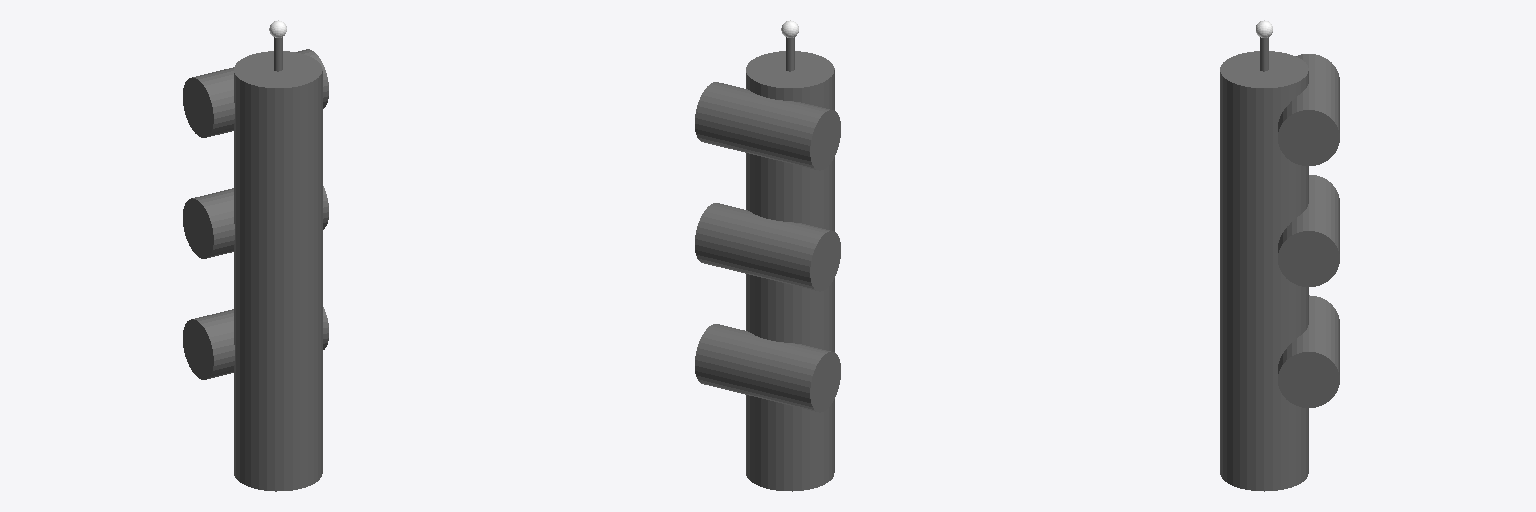
The robot description file, URDF, robot "Mars_Arm":
<?xml version="1.0"?>
<robot name="Mars_Arm">
  <!-- ============== LINKS ================== -->
  <link name="base_plate">
    <visual>
      <geometry>
	<box size="0.1 0.1 0.0"/>
      </geometry>
      <origin xyz="0 0 0"/>
      <material name="Gray">
	<color rgba=".5 .5 .5 1"/>
      </material>
    </visual>
  </link>

  <link name="base">
    <visual>
      <geometry>
	<cylinder length="0.3" radius="0.1"/>
      </geometry>
      <origin xyz="0 0 0.15"/>
      <material name="Gray">
	<color rgba=".5 .5 .5 1"/>
      </material>
    </visual>
  </link>

  <link name="shoulder">
    <visual>
      <geometry>
	<cylinder length="0.3" radius="0.07"/>
      </geometry>
      <origin rpy="0 1.57075 0" xyz="0 0 0"/>
      <material name="Gray">
	<color rgba=".5 .5 .5 1"/>
      </material>
    </visual>
  </link>

  <link name="main_arm">
    <visual>
      <geometry>
	<cylinder length="0.3" radius="0.1"/>
      </geometry>
      <origin xyz="0 0 0.15"/>
      <material name="Gray">
	<color rgba=".5 .5 .5 1"/>
      </material>
    </visual>
  </link>

  <link name="elbow">
    <visual>
      <geometry>
	<cylinder length="0.3" radius="0.07"/>
      </geometry>
      <origin rpy="0 1.57075 0" xyz="0 0 0"/>
      <material name="Gray">
	<color rgba=".5 .5 .5 1"/>
      </material>
    </visual>
  </link>

  <link name="forearm">
    <visual>
      <geometry>
	<cylinder length="0.3" radius="0.1"/>
      </geometry>
      <origin xyz="0 0 0.15"/>
      <material name="Gray">
	<color rgba=".5 .5 .5 1"/>
      </material>
    </visual>
  </link>


  <link name="wrist">
    <visual>
      <geometry>
	<cylinder length="0.3" radius="0.07"/>
      </geometry>
      <origin rpy="0 1.57075 0" xyz="0 0 0"/>
      <material name="Gray">
	<color rgba=".5 .5 .5 1"/>
      </material>
    </visual>
  </link>

  <link name="hand">
    <visual>
      <geometry>
	<cylinder length="0.1" radius="0.1"/>
      </geometry>
      <origin xyz="0 0 0.05"/>
      <material name="Gray">
	<color rgba=".5 .5 .5 1"/>
      </material>
    </visual>
  </link>

  <link name="probe_body">
    <visual>
      <geometry>
	<cylinder length="0.1" radius="0.01"/>
      </geometry>
      <origin xyz="0 0 0.05"/>
      <material name="Gray">
	<color rgba=".5 .5 .5 1"/>
      </material>
    </visual>
  </link>

  <link name="probe_tip">
    <visual>
      <geometry>
	<sphere radius="0.02"/>
      </geometry>
      <material name="White">
	<color rgba="1 1 1 1"/>
      </material>
    </visual>
  </link>




<!-- ============== JOINTS ================== -->
  <joint name="base_plate_to_base" type="revolute">
    <axis xyz="0 0 1"/>
    <limit effort="1000.0" lower="-3.2" upper="3.2" velocity="0.5"/>
    <parent link="base_plate"/>
    <child link="base"/>n
    <origin xyz="0 0 0"/>
  </joint>
  

  <joint name="base_to_shoulder" type="revolute">
    <axis xyz="1 0 0"/>
    <limit effort="1000.0" lower="-1.6" upper="0.6" velocity="0.5"/>
    <parent link="base"/>
    <child link="shoulder"/>
    <origin xyz="0 .1 .3"/>
  </joint>

  <joint name="shoulder_to_main_arm" type="revolute">
    <axis xyz="0 0 1"/>
    <limit effort="1000.0" lower="-3.2" upper="3.2" velocity="0.5"/>
    <parent link="shoulder"/>
    <child link="main_arm"/>
    <origin xyz="0 -.1 0"/>
  </joint>

  <joint name="main_arm_to_elbow" type="revolute">
    <axis xyz="1 0 0"/>
    <limit effort="1000.0" lower="-1.6" upper="0.6" velocity="0.5"/>
    <parent link="main_arm"/>
    <child link="elbow"/>
    <origin xyz="0 .1 .3"/>
  </joint>

  <joint name="elbow_to_forearm" type="revolute">
    <axis xyz="0 0 1"/>
    <limit effort="1000.0" lower="-3.2" upper="3.2" velocity="0.5"/>
    <parent link="elbow"/>
    <child link="forearm"/>
    <origin xyz="0 -.1 0"/>
  </joint>

  <joint name="forearm_to_wrist" type="revolute">
    <axis xyz="1 0 0"/>
    <limit effort="1000.0" lower="-1.6" upper="0.6" velocity="0.5"/>
    <parent link="forearm"/>
    <child link="wrist"/>
    <origin xyz="0 .1 .3"/>
  </joint>

  <joint name="wrist_to_hand" type="revolute">
    <axis xyz="0 0 1"/>
    <limit effort="1000.0" lower="-3.2" upper="3.2" velocity="0.5"/>
    <parent link="wrist"/>
    <child link="hand"/>
    <origin xyz="0 -.1 0"/>
  </joint>

  <joint name="hand_to_probe" type="fixed">
    <parent link="hand"/>
    <child link="probe_body"/>
    <origin xyz="0 0 .1"/>
  </joint>

  <joint name="probe_to_probe_tip" type="fixed">
    <parent link="probe_body"/>
    <child link="probe_tip"/>
    <origin xyz="0 0 .1"/>
  </joint>
    





</robot>

--- Facts derived from the render (not from the file) ---
The picture shows the robot from 3 angles, left to right: view 1: azimuth 30°, elevation 25°; view 2: azimuth 150°, elevation 25°; view 3: azimuth 270°, elevation 25°; orthographic projection.
Model Mars_Arm with 10 links and 9 joints (7 revolute, 2 fixed), rooted at base_plate, posed all joints at 0.
Visible links, largest first — view 1: base, forearm, main_arm, hand, wrist, shoulder, elbow; view 2: shoulder, wrist, elbow, base, main_arm, forearm, hand; view 3: base, main_arm, forearm, hand, wrist, shoulder, elbow.
Link boxes in pixels (x1,y1,x2,y2): base: (234, 353, 322, 491); forearm: (234, 112, 322, 249); main_arm: (234, 232, 322, 370); hand: (234, 51, 322, 128); wrist: (183, 49, 328, 137); shoulder: (183, 307, 328, 379); elbow: (183, 186, 328, 258); shoulder: (695, 324, 840, 412); wrist: (695, 82, 840, 170); elbow: (695, 203, 840, 291); base: (746, 395, 834, 491); main_arm: (746, 231, 834, 351); forearm: (746, 110, 834, 230); hand: (746, 51, 834, 109); base: (1220, 354, 1308, 491); main_arm: (1220, 233, 1308, 370); forearm: (1220, 112, 1308, 249); hand: (1220, 51, 1308, 128); wrist: (1278, 54, 1339, 165); shoulder: (1278, 295, 1339, 407); elbow: (1278, 175, 1339, 286).
Size in the robot's own frame: 0.3 by 0.27 by 1.12 metres.
Geometry: primitives only (box / cylinder / sphere), no mesh files.
